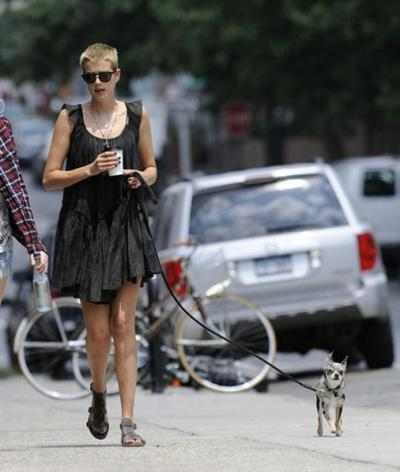person: (48, 47, 157, 448)
